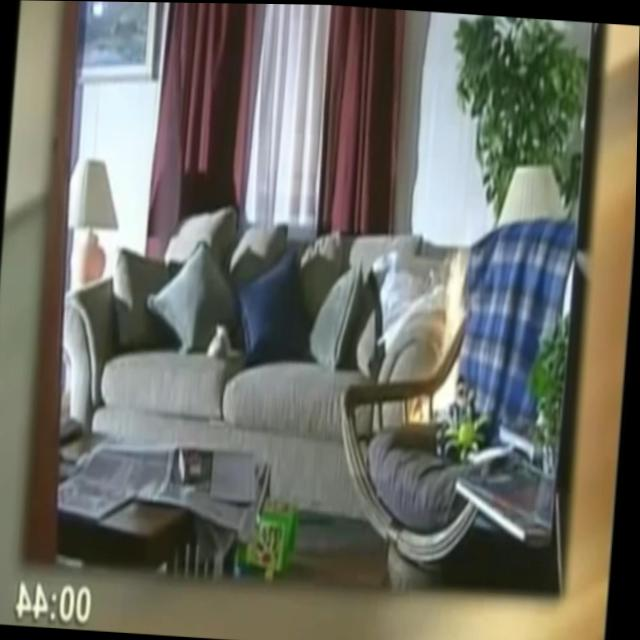fire: (410, 244, 470, 423)
